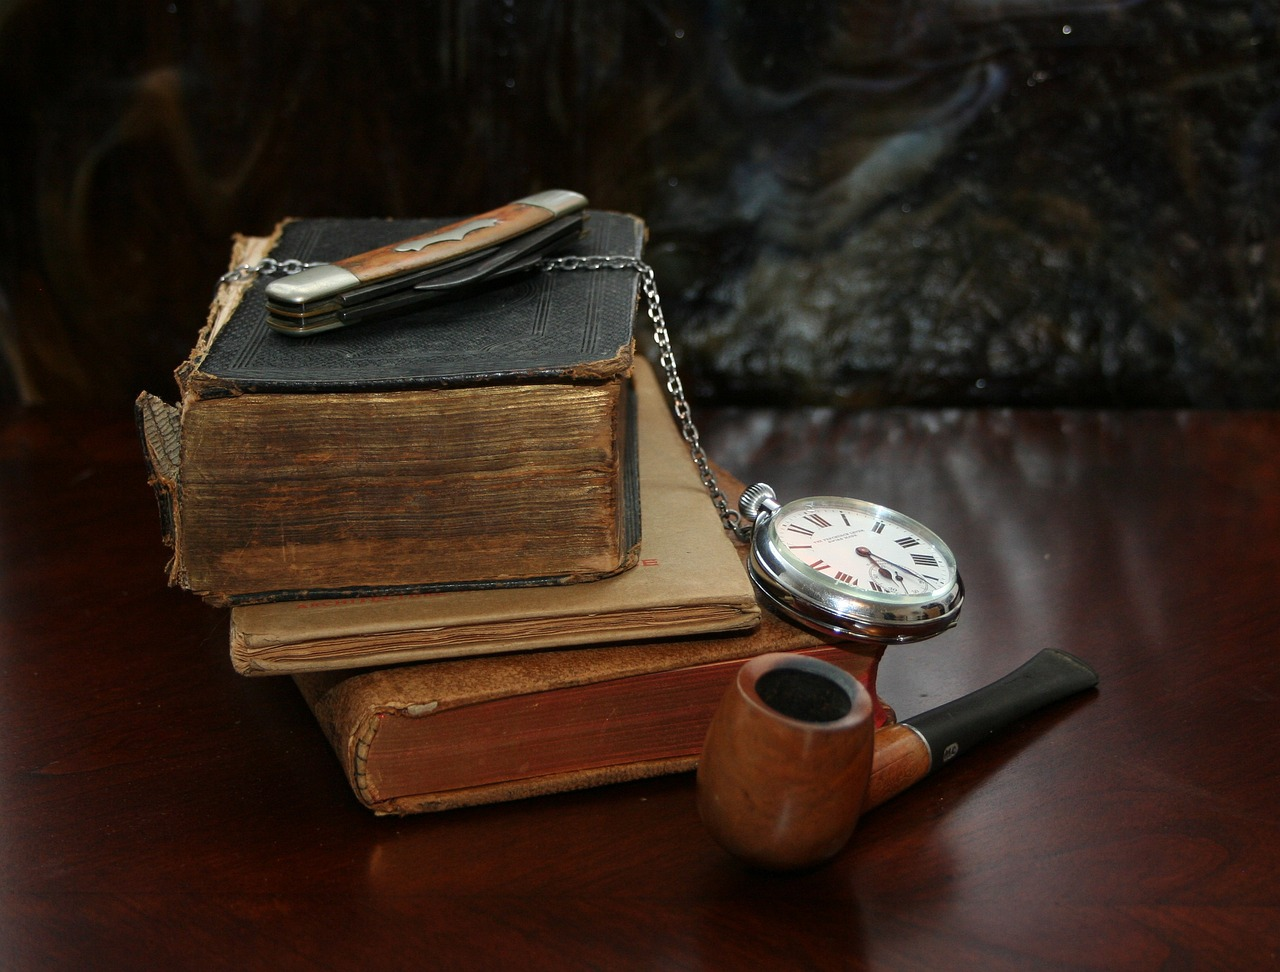knife: (261, 188, 603, 345)
